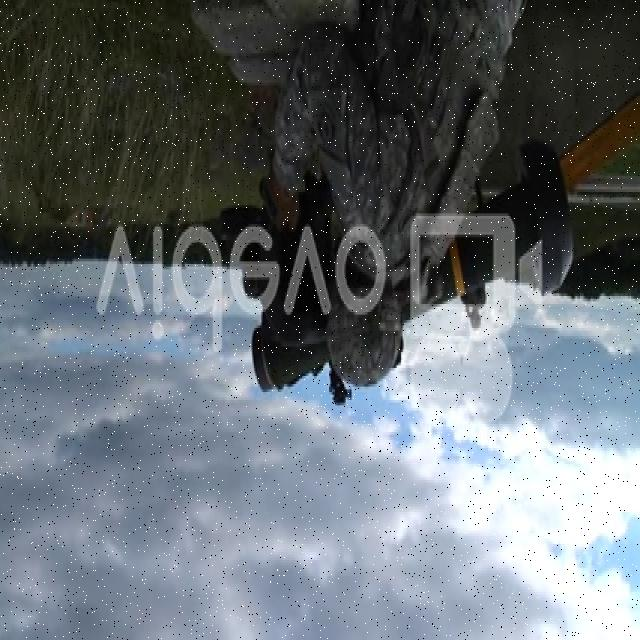bazooka: (248, 126, 579, 406)
